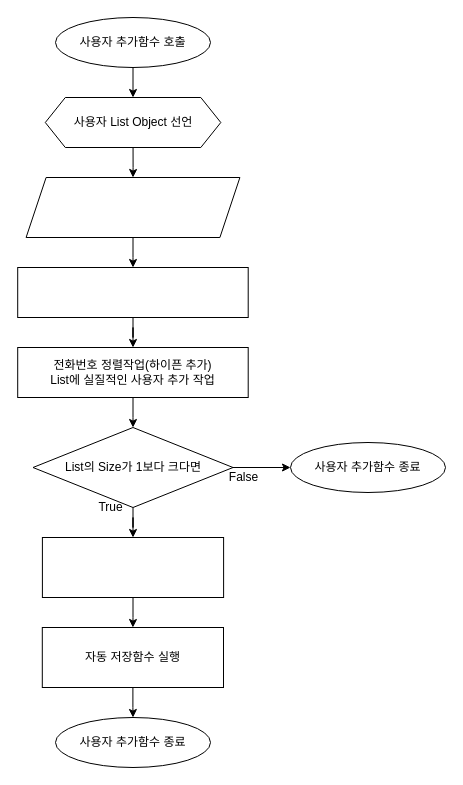
Some shapes in this 463 by 785 pixel diagram are drawn without their labels. Here are the shapes that lost their labels. From the top down, the centre of each, then its label:
point 132,207: 등록할 사용자 이름, 전화번호 입력
point 132,292: (List Object).name = 사용자 이름 (List Object).num = 사용자 전화번호
point 132,567: 사용자 이름 순으로 자동 정렬
